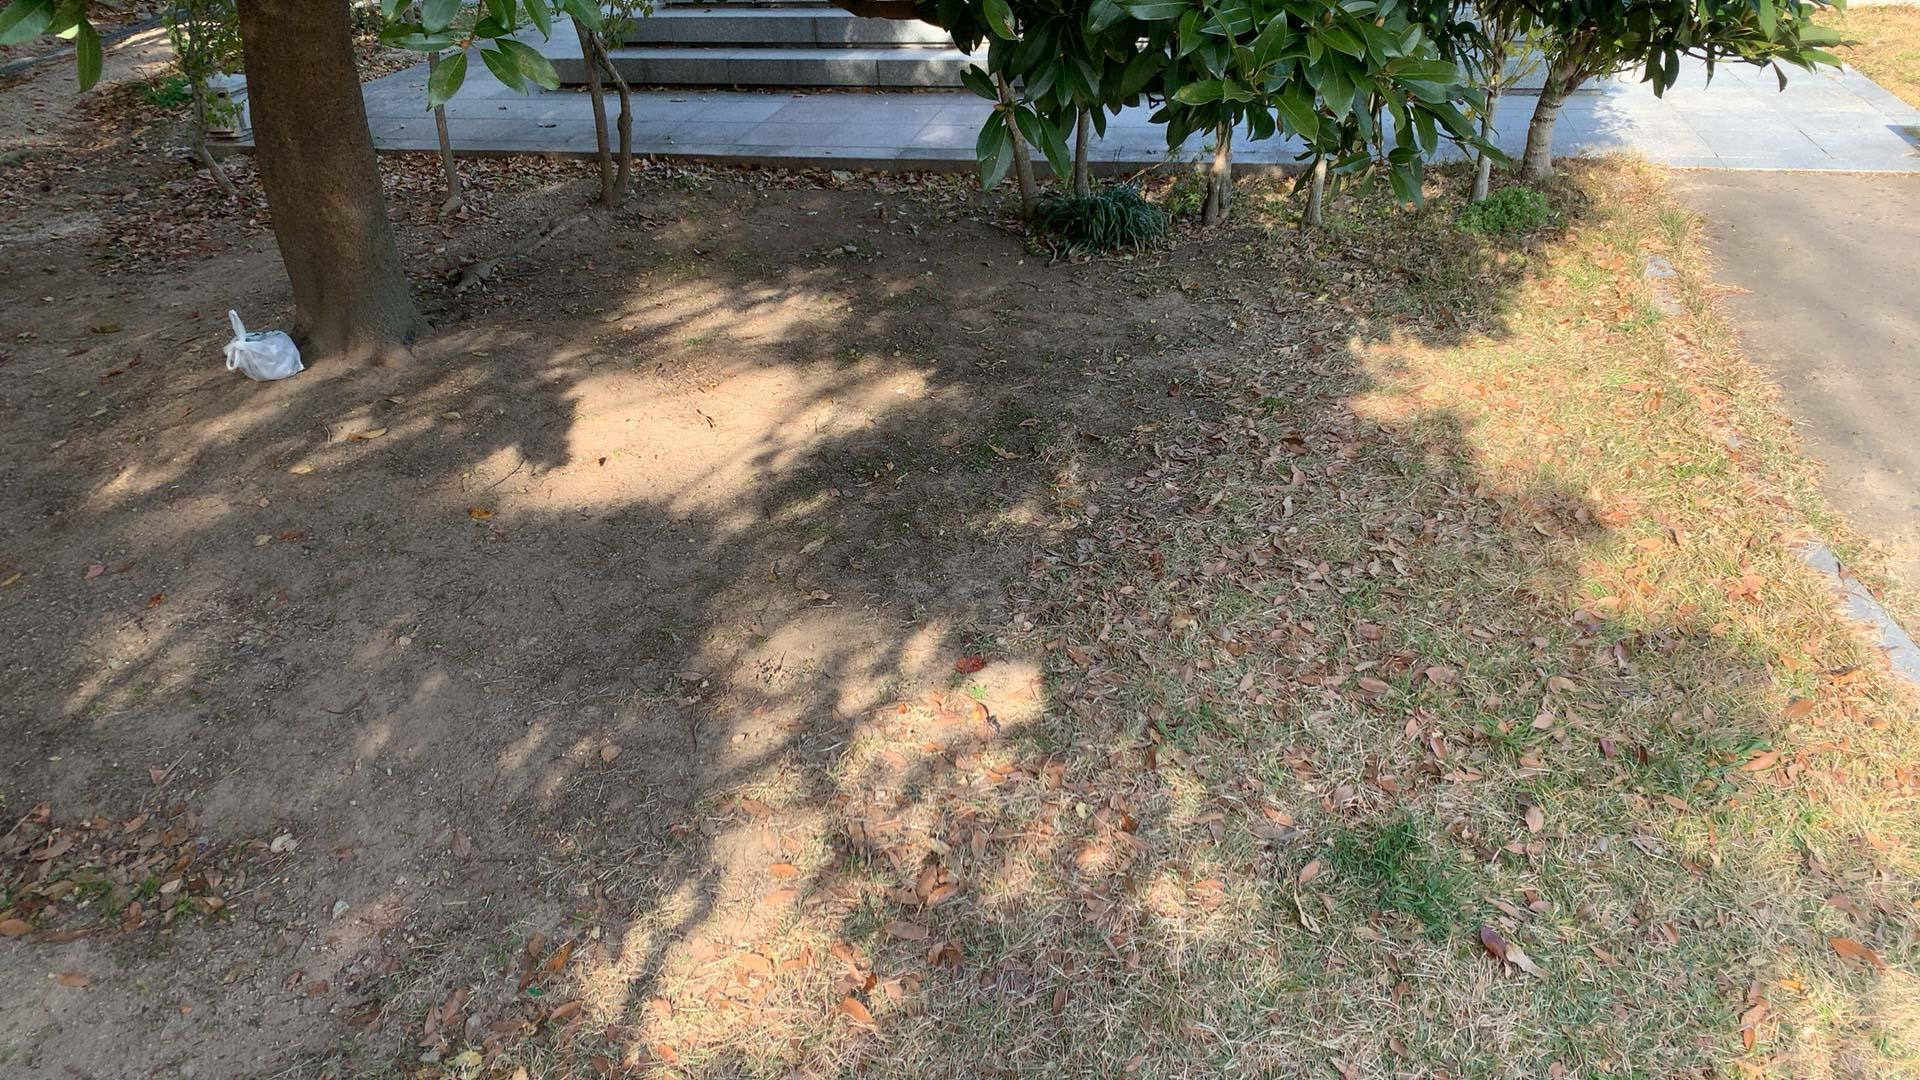white_bag: (214, 306, 309, 384)
